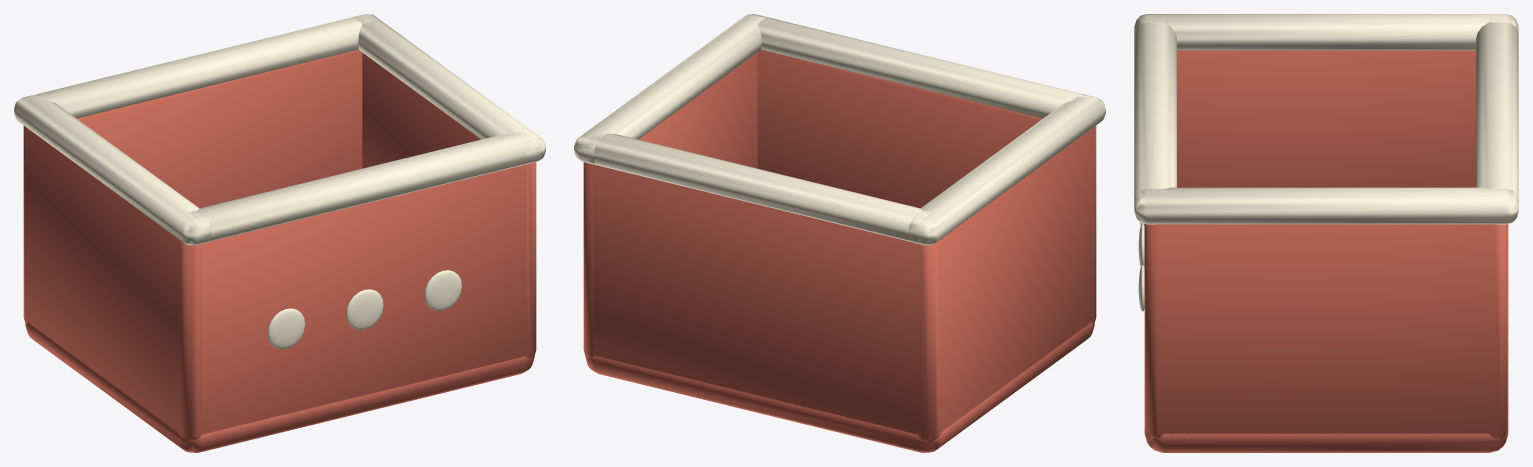
Rendered from rounded-toy-box.glb.
3 renders of one model, left to right at view 1: azimuth 30°, elevation 25°; view 2: azimuth 150°, elevation 25°; view 3: azimuth 270°, elevation 25°, orthographic. The views are drawn at different scales.
Parts seen in each view (by area): view 1: rounded-toy-box-red toy box, rounded-toy-box-cream accents; view 2: rounded-toy-box-red toy box, rounded-toy-box-cream accents; view 3: rounded-toy-box-red toy box, rounded-toy-box-cream accents.
Part boxes in pixels (x1,y1,x2,y2): rounded-toy-box-red toy box: (23, 49, 536, 452); rounded-toy-box-cream accents: (14, 14, 545, 348); rounded-toy-box-red toy box: (583, 49, 1096, 452); rounded-toy-box-cream accents: (574, 14, 1105, 245); rounded-toy-box-red toy box: (1144, 50, 1508, 452); rounded-toy-box-cream accents: (1134, 14, 1518, 311).
Bounding box in the file's own units: 2.87 × 1.81 × 2.43.
